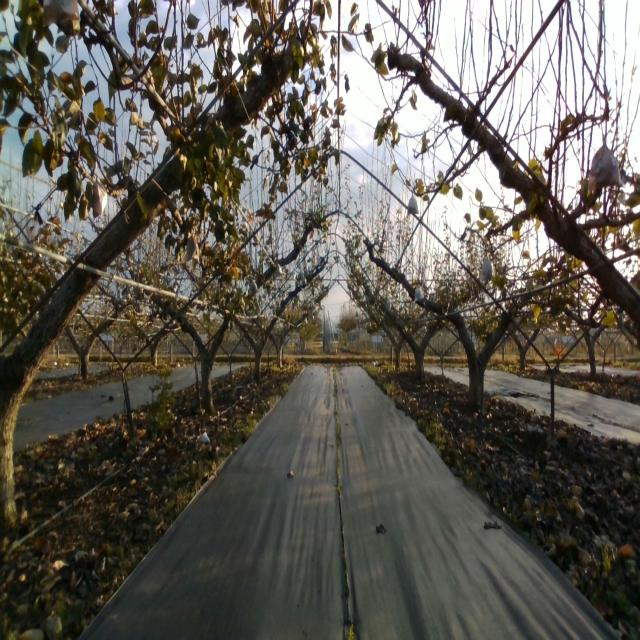pearbags: (586, 134, 624, 198), (92, 176, 109, 219), (479, 258, 494, 282), (407, 193, 419, 216), (414, 284, 424, 302)
